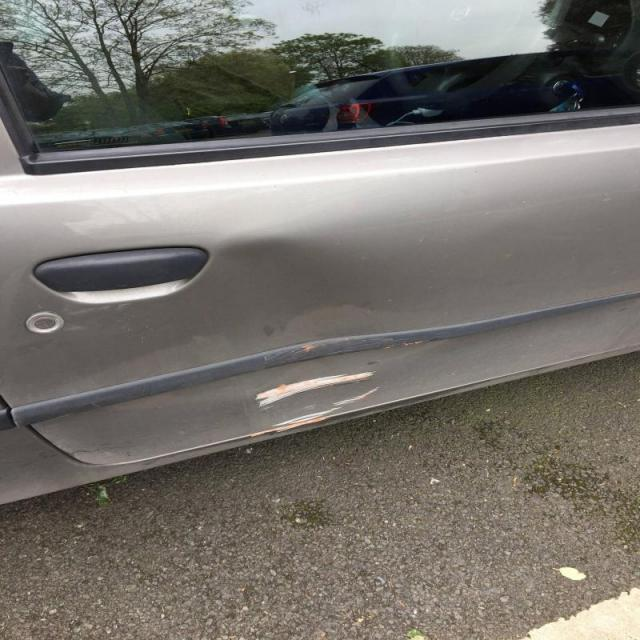Dent: (240, 301, 432, 432), (219, 239, 326, 306)
